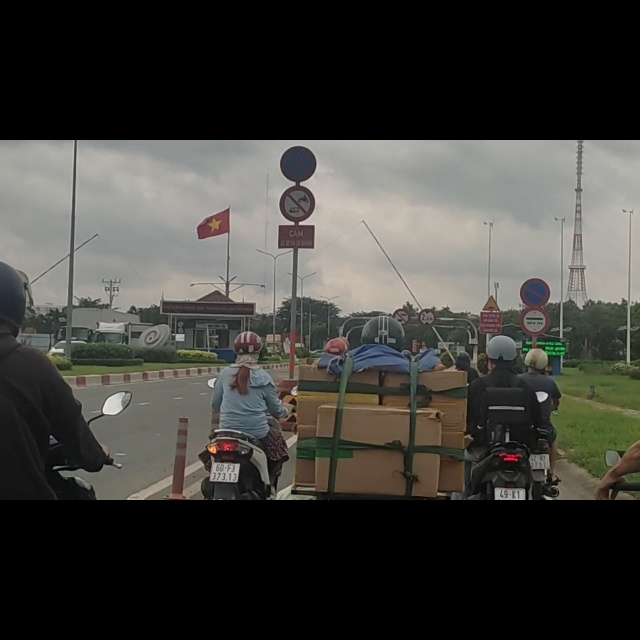bien_nguy_hiem: (279, 82, 315, 145), (280, 12, 317, 73), (520, 245, 551, 296), (520, 297, 549, 346), (483, 274, 501, 306), (419, 299, 436, 331), (393, 300, 409, 329)
